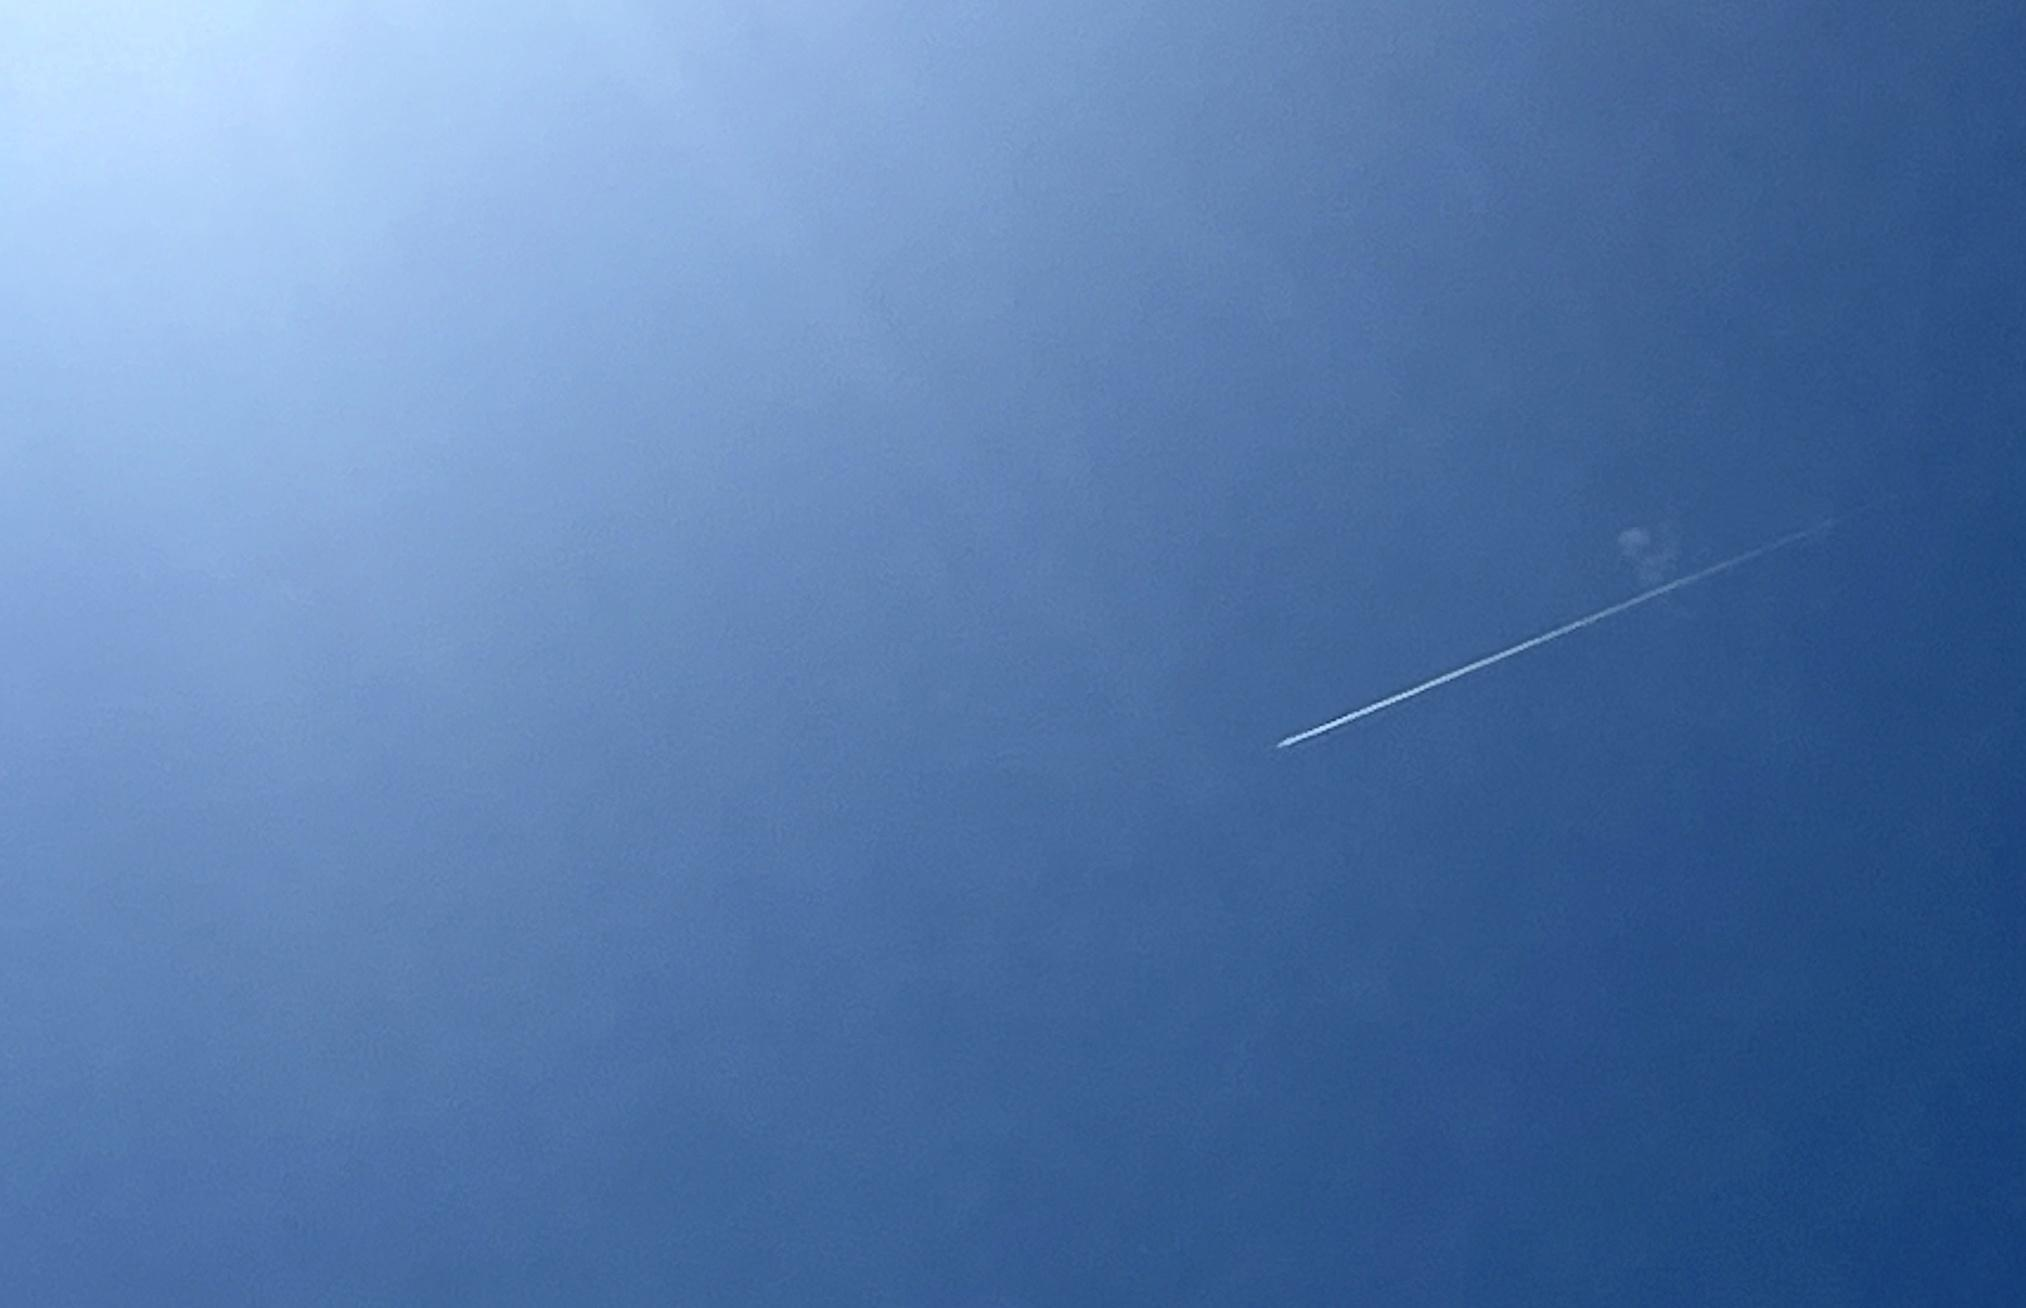Plane: (1257, 574, 1717, 760)
